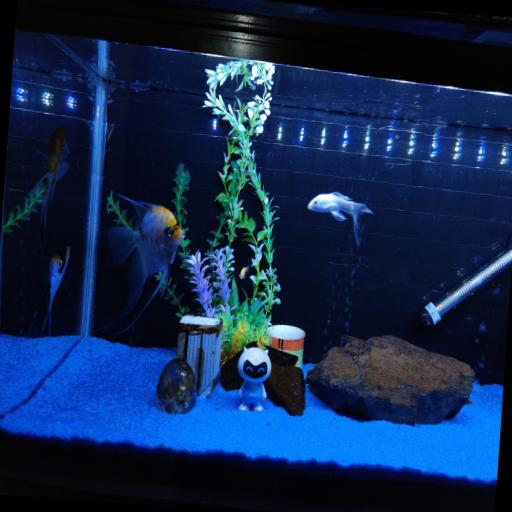Fish: (103, 195, 184, 331), (28, 247, 70, 336), (40, 126, 69, 245), (308, 192, 372, 245), (239, 266, 249, 279)
